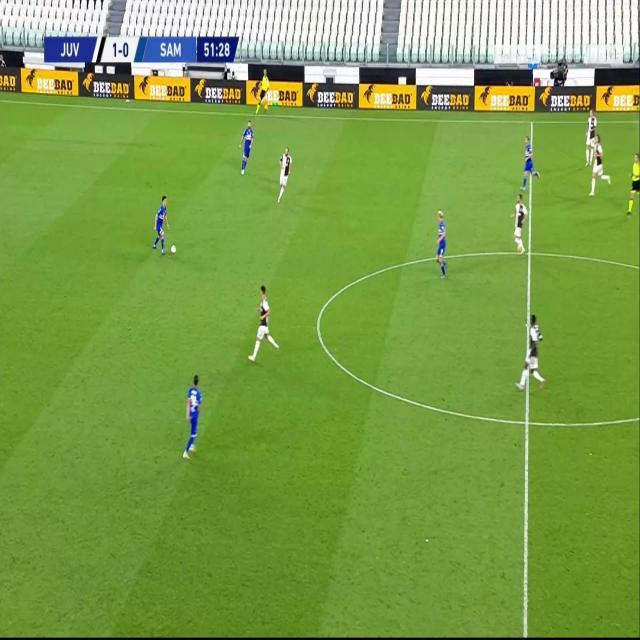ball: (171, 243, 177, 255)
player: (515, 311, 547, 393), (249, 283, 280, 367), (181, 371, 206, 461), (590, 131, 612, 196), (433, 206, 450, 279), (152, 193, 170, 258), (521, 132, 541, 190), (511, 193, 529, 255), (276, 145, 293, 203), (238, 119, 254, 174), (585, 108, 598, 166)
referee: (626, 148, 640, 215), (254, 69, 271, 114)
